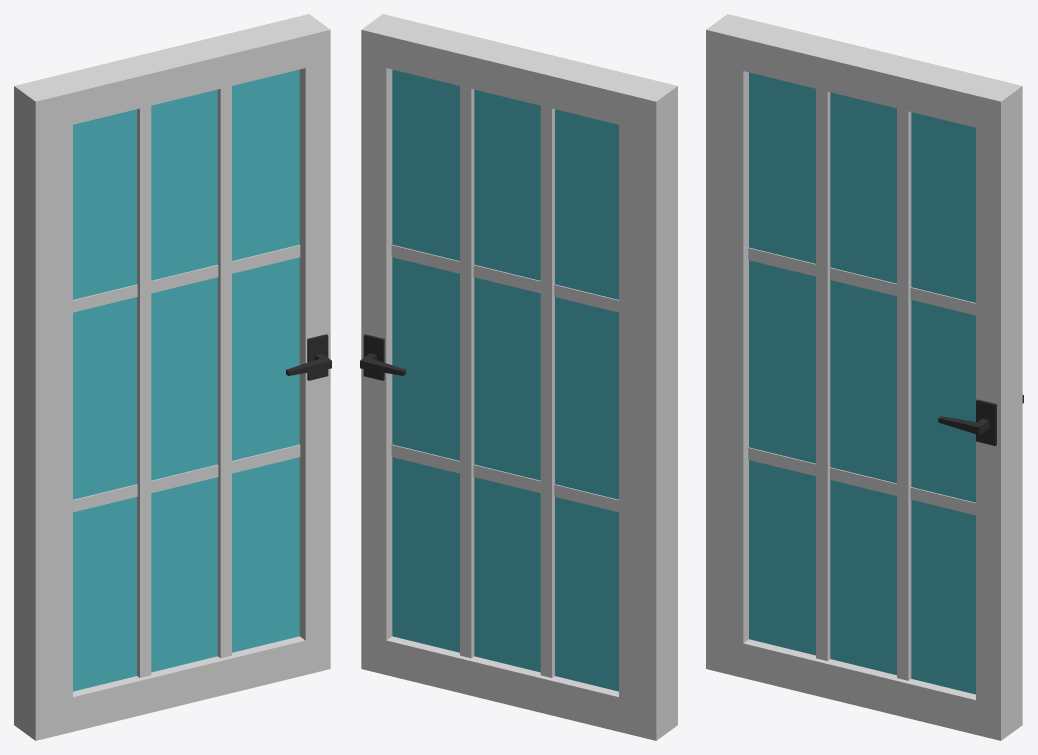
Rendered from Puerta01.fbx.
The picture shows the model from 3 angles, left to right: view 1: azimuth 30°, elevation 25°; view 2: azimuth 150°, elevation 25°; view 3: azimuth 330°, elevation 25°; orthographic projection.
Visible parts, largest first — view 1: Puerta01; view 2: Puerta01; view 3: Puerta01.
Boxes of the visible parts, bbox=[...] form: Puerta01: bbox=[14, 14, 331, 740]; Puerta01: bbox=[360, 14, 677, 740]; Puerta01: bbox=[706, 14, 1023, 740].
Size of the model in its own units: 130 by 270 by 34.02.
